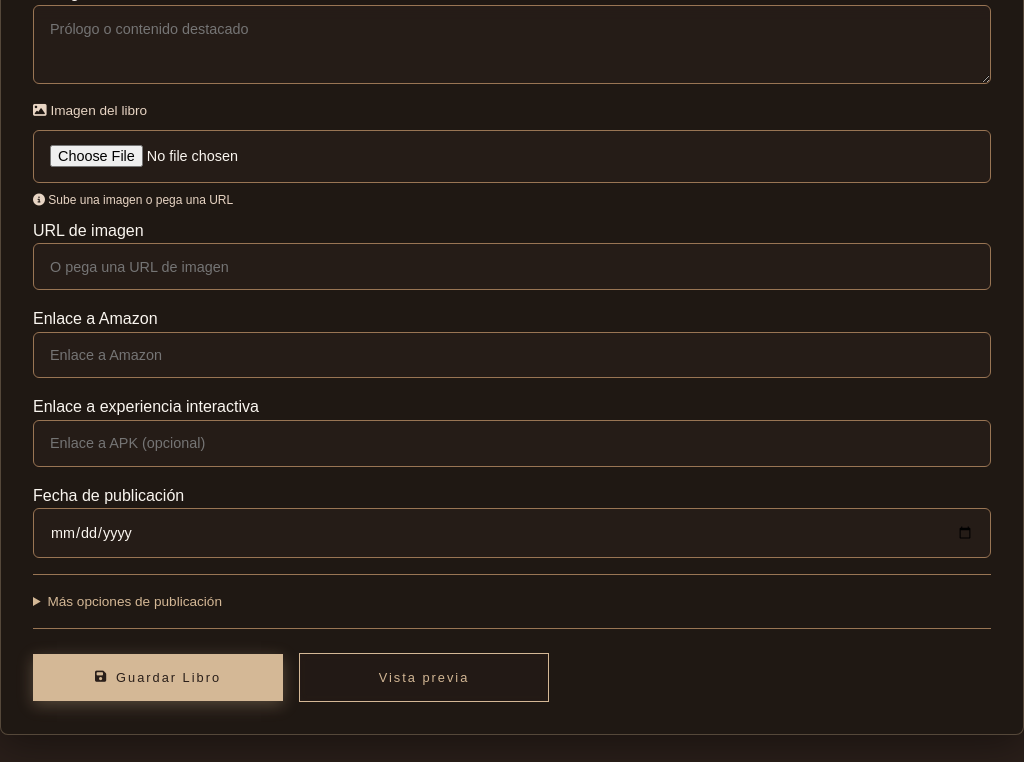
Test: relaciona el error de validación con el campo que debe corregirse
(page scrolled)
What coordinates should you click on to do the following:
click the button with aria-label "Guardar cambios"
I would click on:
 (158, 678)
Its box is [33,654,283,701].
(page scrolled)
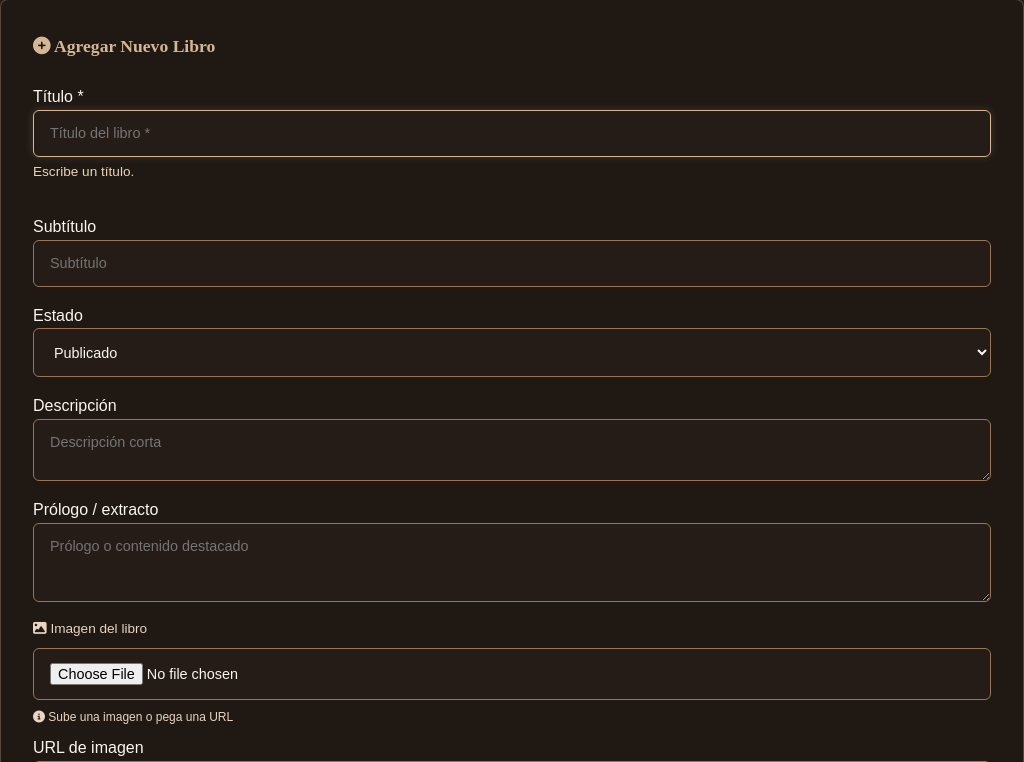
Now the text "Escribe un título." is shown, box [33,164,134,178]
